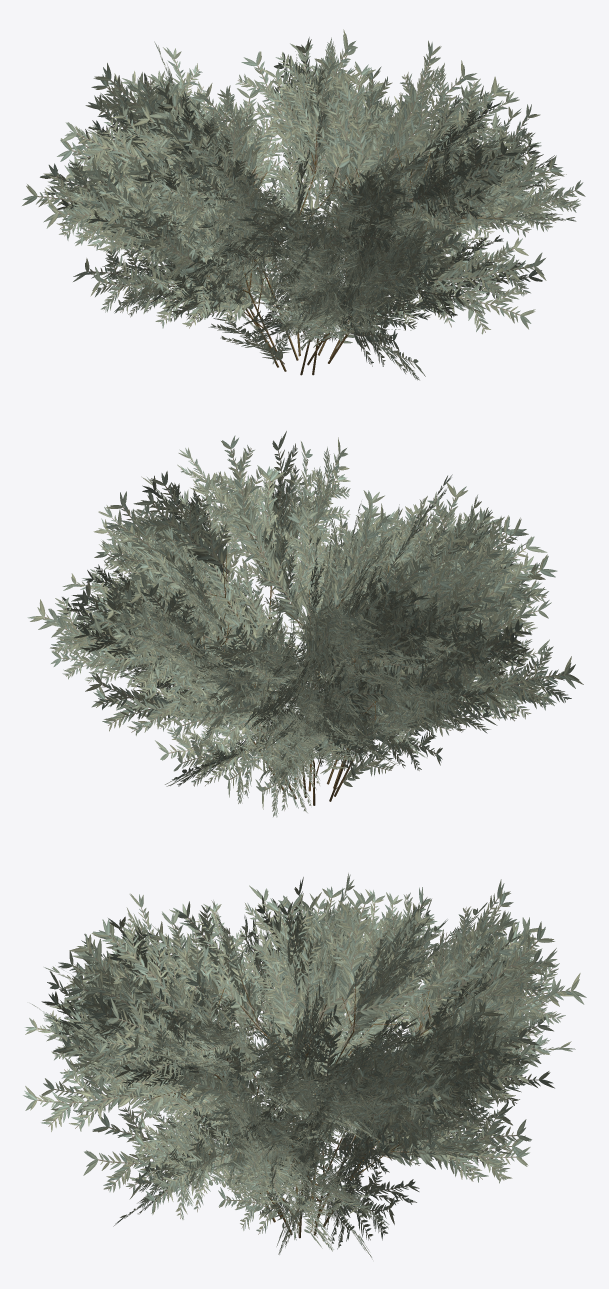
File: sagebrush_grey_v01_LOD1.fbx
The picture shows the model from 3 angles, top to bottom: view 1: azimuth 30°, elevation 25°; view 2: azimuth 150°, elevation 25°; view 3: azimuth 270°, elevation 25°; orthographic projection. The views are drawn at different scales.
Visible parts, largest first — view 1: sagebrush_grey_v01_LOD1; view 2: sagebrush_grey_v01_LOD1; view 3: sagebrush_grey_v01_LOD1.
Part boxes in pixels (box(x1,y1,x2,y2)): sagebrush_grey_v01_LOD1: box(22, 29, 585, 380); sagebrush_grey_v01_LOD1: box(27, 431, 583, 817); sagebrush_grey_v01_LOD1: box(23, 873, 586, 1259).
Bounding box in the file's own units: 117 × 65 × 103.
2 materials, 2 textured.
